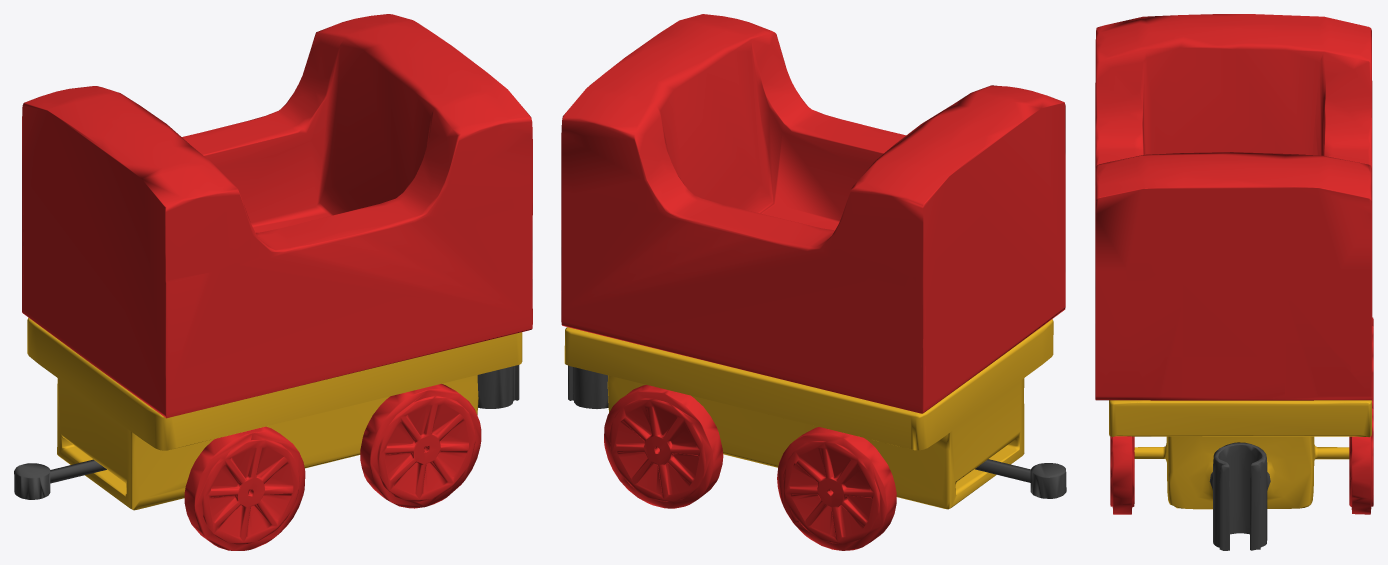
Rendered from train_vagone2_LOD01.fbx.
The picture shows the model from 3 angles, left to right: view 1: azimuth 30°, elevation 25°; view 2: azimuth 150°, elevation 25°; view 3: azimuth 270°, elevation 25°; orthographic projection. The views are drawn at different scales.
Parts seen in each view (by area): view 1: train car; view 2: train car; view 3: train car.
Part boxes in pixels (left/top/right/bottom): train car: left=14, top=14, right=532, bottom=550; train car: left=561, top=14, right=1066, bottom=550; train car: left=1095, top=14, right=1373, bottom=550.
Bounding box in the file's own units: 218 × 165 × 111.
